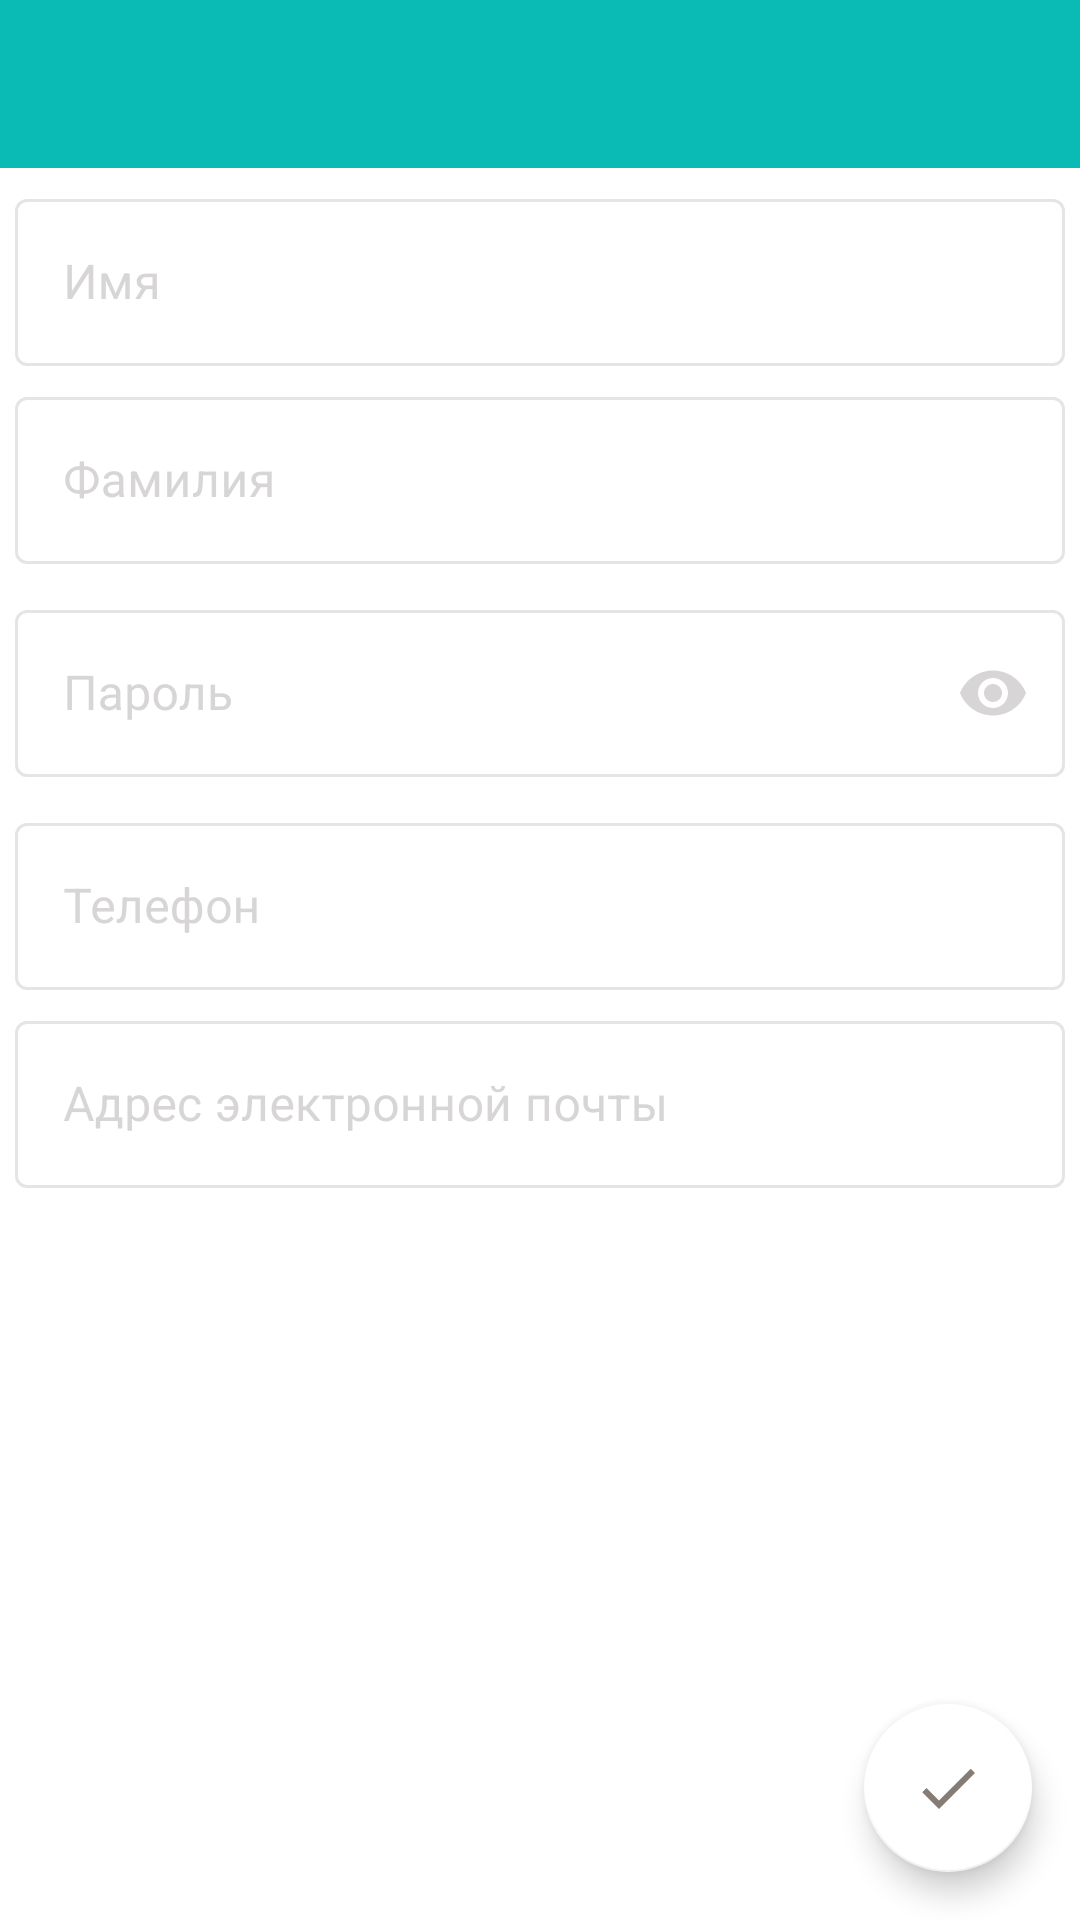

Icons on this 1080 × 1920 Android screen, each with the point to tap as [x,y]:
complete: [950,1820]
